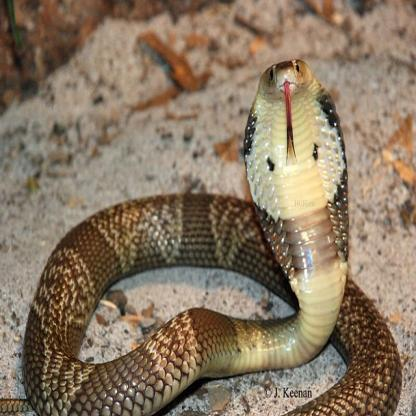snakes: (21, 56, 403, 416)
